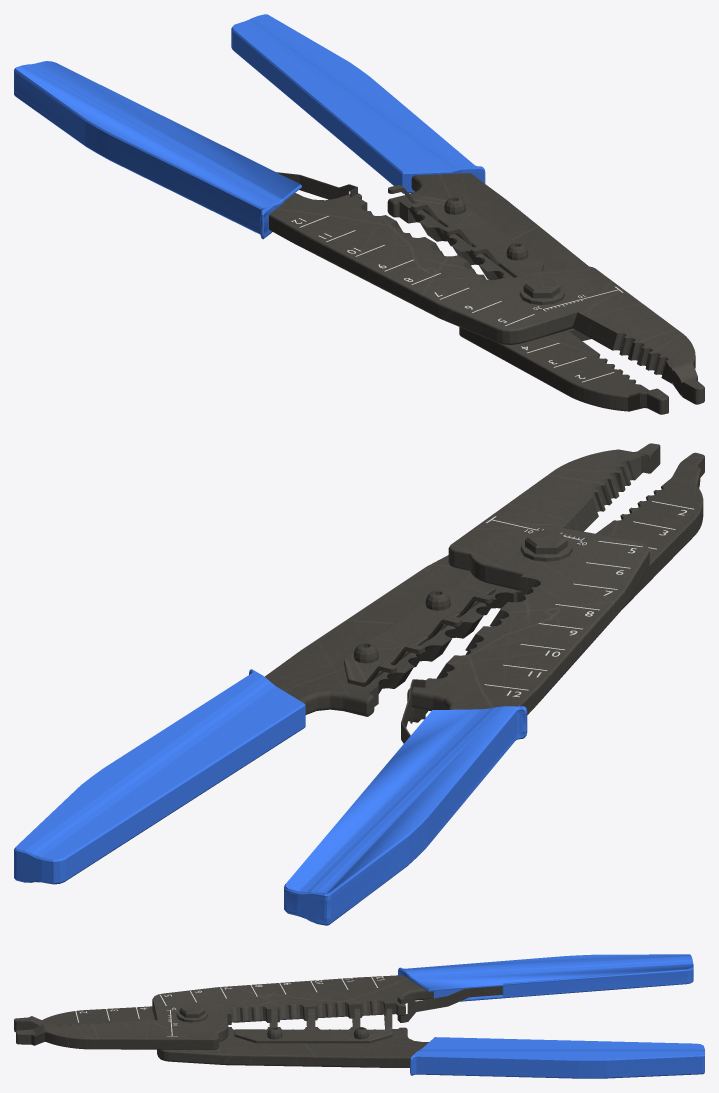
File: VVF Stripper.glb
3 views of the same model, one above another, from view 1: azimuth 30°, elevation 25°; view 2: azimuth 150°, elevation 25°; view 3: azimuth 270°, elevation 25° (orthographic). The views are drawn at different scales.
Visible parts, largest first — view 1: Lower, Upper; view 2: Lower, Upper; view 3: Lower, Upper.
Boxes of the visible parts, x1,y1,x2,y2 form: Lower: (14, 61, 704, 404); Upper: (231, 14, 668, 414); Lower: (284, 443, 660, 925); Upper: (14, 452, 704, 884); Lower: (16, 954, 693, 1049); Upper: (14, 1003, 704, 1078).
Bounding box in the file's own units: 0.0723 × 0.0138 × 0.2246.
3 materials, 2 textured.
